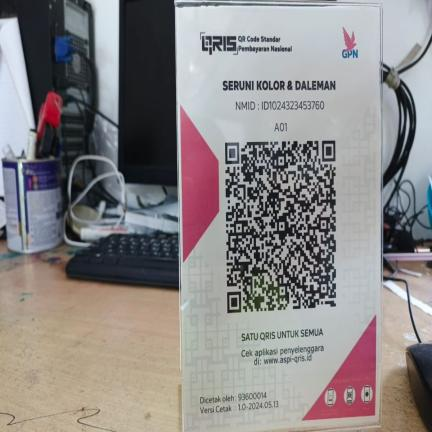Qris-Positioning: (175, 0, 382, 431)
